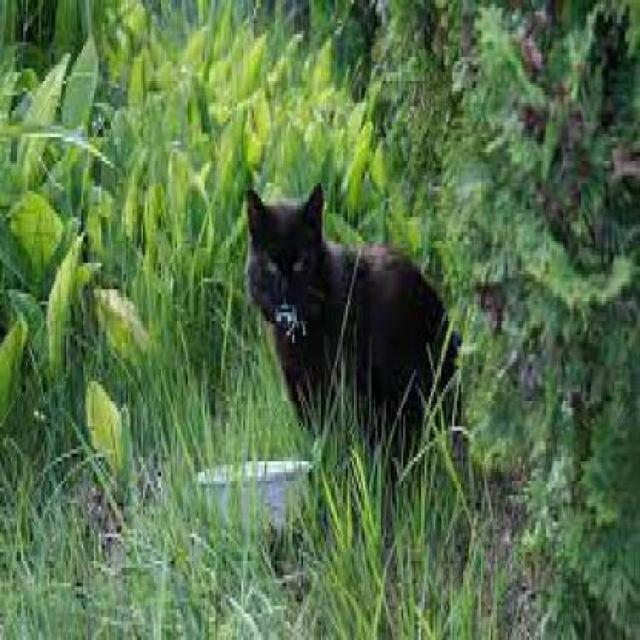animals: (232, 168, 448, 438)
